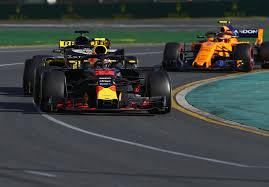f1_car: (29, 44, 178, 123), (157, 16, 269, 77)
